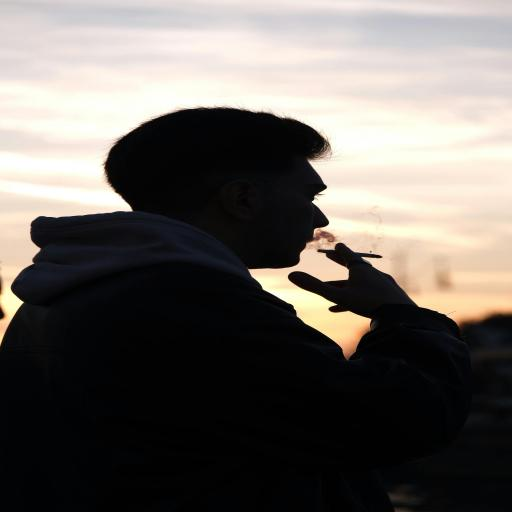pegang rokok: (286, 203, 409, 302)
